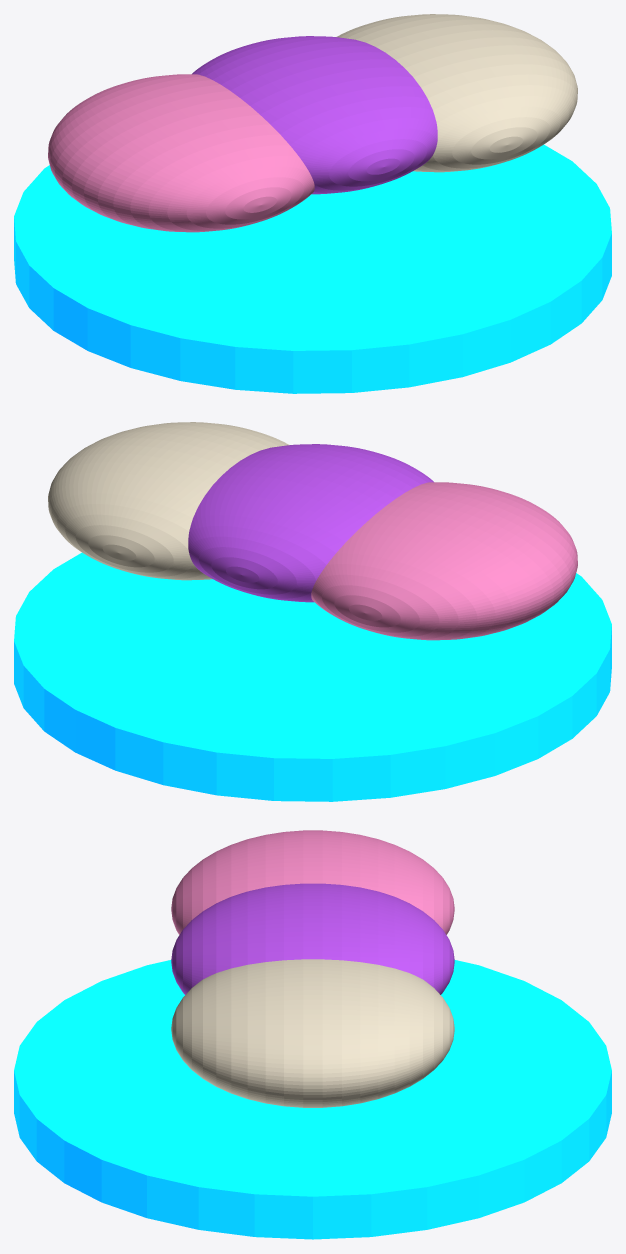
File: french_macarons.glb
The picture shows the model from 3 angles, top to bottom: view 1: azimuth 30°, elevation 25°; view 2: azimuth 150°, elevation 25°; view 3: azimuth 270°, elevation 25°; orthographic projection.
Visible parts, largest first — view 1: 10_08_Popular_French_Macarons_ROOT_base, 10_08_Popular_French_Macarons_part_01, 10_08_Popular_French_Macarons_part_03, 10_08_Popular_French_Macarons_part_02; view 2: 10_08_Popular_French_Macarons_ROOT_base, 10_08_Popular_French_Macarons_part_01, 10_08_Popular_French_Macarons_part_03, 10_08_Popular_French_Macarons_part_02; view 3: 10_08_Popular_French_Macarons_ROOT_base, 10_08_Popular_French_Macarons_part_02, 10_08_Popular_French_Macarons_part_03, 10_08_Popular_French_Macarons_part_01.
Part boxes in pixels (x1,y1,x2,y2): 10_08_Popular_French_Macarons_ROOT_base: [14, 144, 611, 393]; 10_08_Popular_French_Macarons_part_01: [48, 74, 314, 232]; 10_08_Popular_French_Macarons_part_03: [192, 36, 437, 194]; 10_08_Popular_French_Macarons_part_02: [336, 14, 577, 172]; 10_08_Popular_French_Macarons_ROOT_base: [14, 552, 611, 801]; 10_08_Popular_French_Macarons_part_01: [311, 482, 577, 640]; 10_08_Popular_French_Macarons_part_03: [188, 444, 433, 602]; 10_08_Popular_French_Macarons_part_02: [48, 422, 289, 580]; 10_08_Popular_French_Macarons_ROOT_base: [14, 960, 611, 1239]; 10_08_Popular_French_Macarons_part_02: [171, 959, 454, 1107]; 10_08_Popular_French_Macarons_part_03: [171, 883, 454, 994]; 10_08_Popular_French_Macarons_part_01: [171, 830, 454, 934].
Size of the model in its own units: 0.76 by 0.2851 by 0.76.
